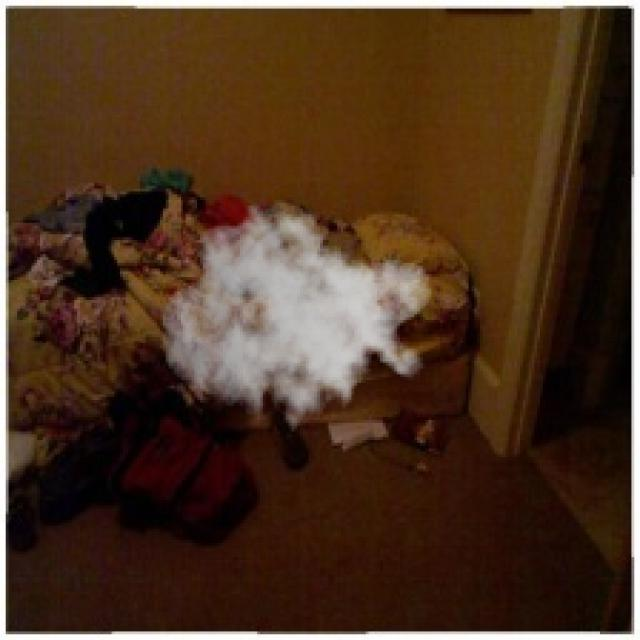smoke: (160, 197, 434, 443)
